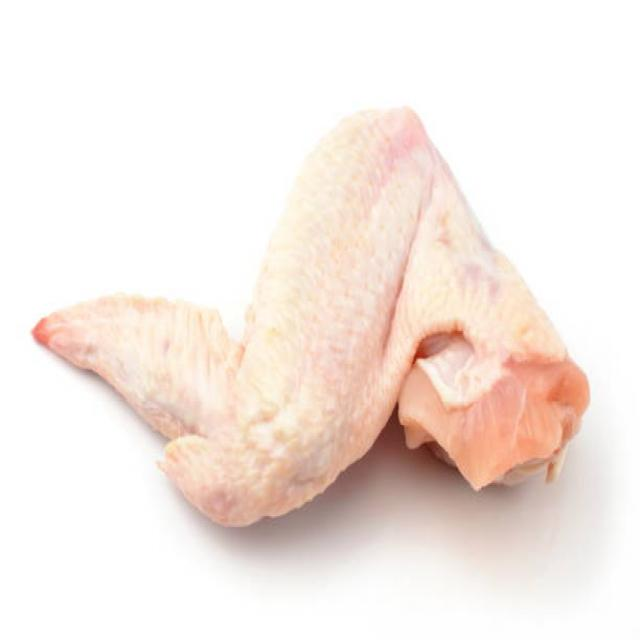Chicken: (32, 93, 588, 549)
